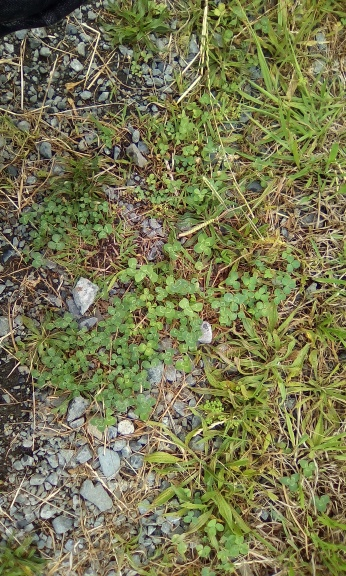4leaf: (192, 233, 215, 256)
